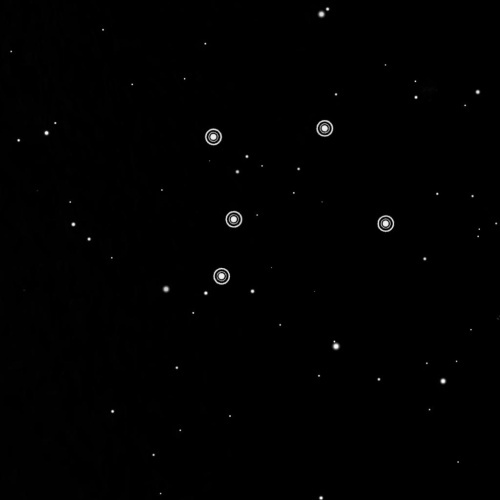libra: (196, 115, 400, 293)
